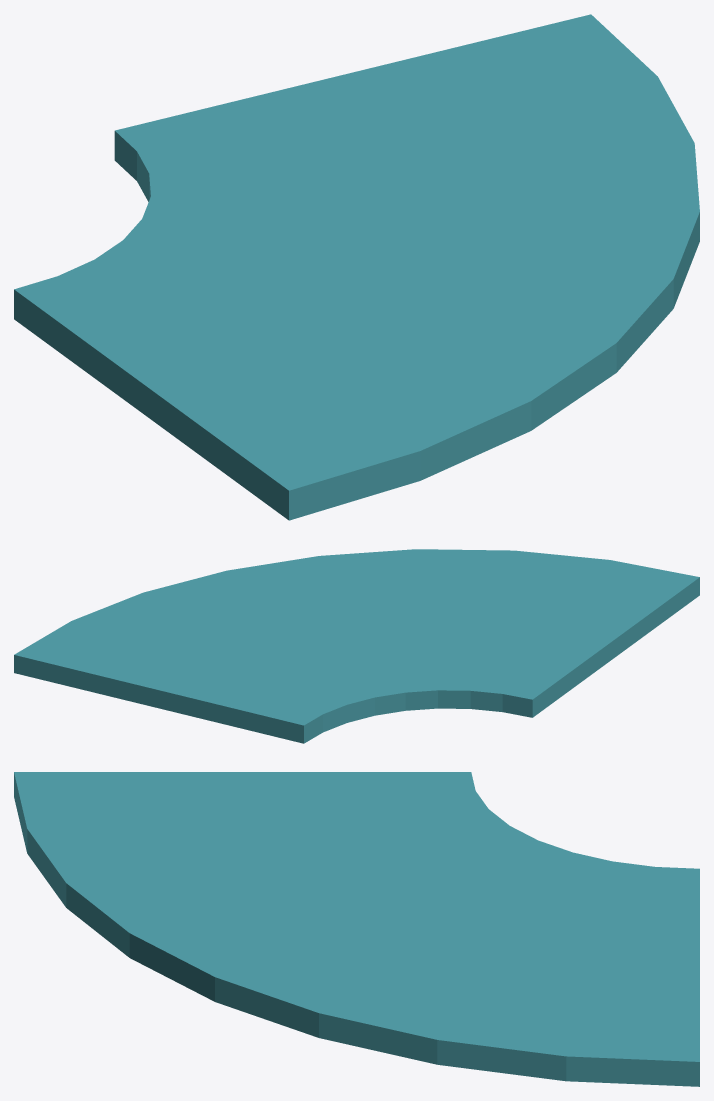
File: W03_River_Right90.fbx
3 views of the same model, one above another, from view 1: azimuth 30°, elevation 25°; view 2: azimuth 150°, elevation 25°; view 3: azimuth 270°, elevation 25° (orthographic). The views are drawn at different scales.
Parts seen in each view (by area): view 1: W03_River_Right90; view 2: W03_River_Right90; view 3: W03_River_Right90.
Boxes of the visible parts, left/top/right/bottom form: W03_River_Right90: left=14, top=14, right=699, bottom=520; W03_River_Right90: left=14, top=549, right=699, bottom=743; W03_River_Right90: left=14, top=772, right=699, bottom=1086.
Bounding box in the file's own units: 3 × 0.12 × 3.
